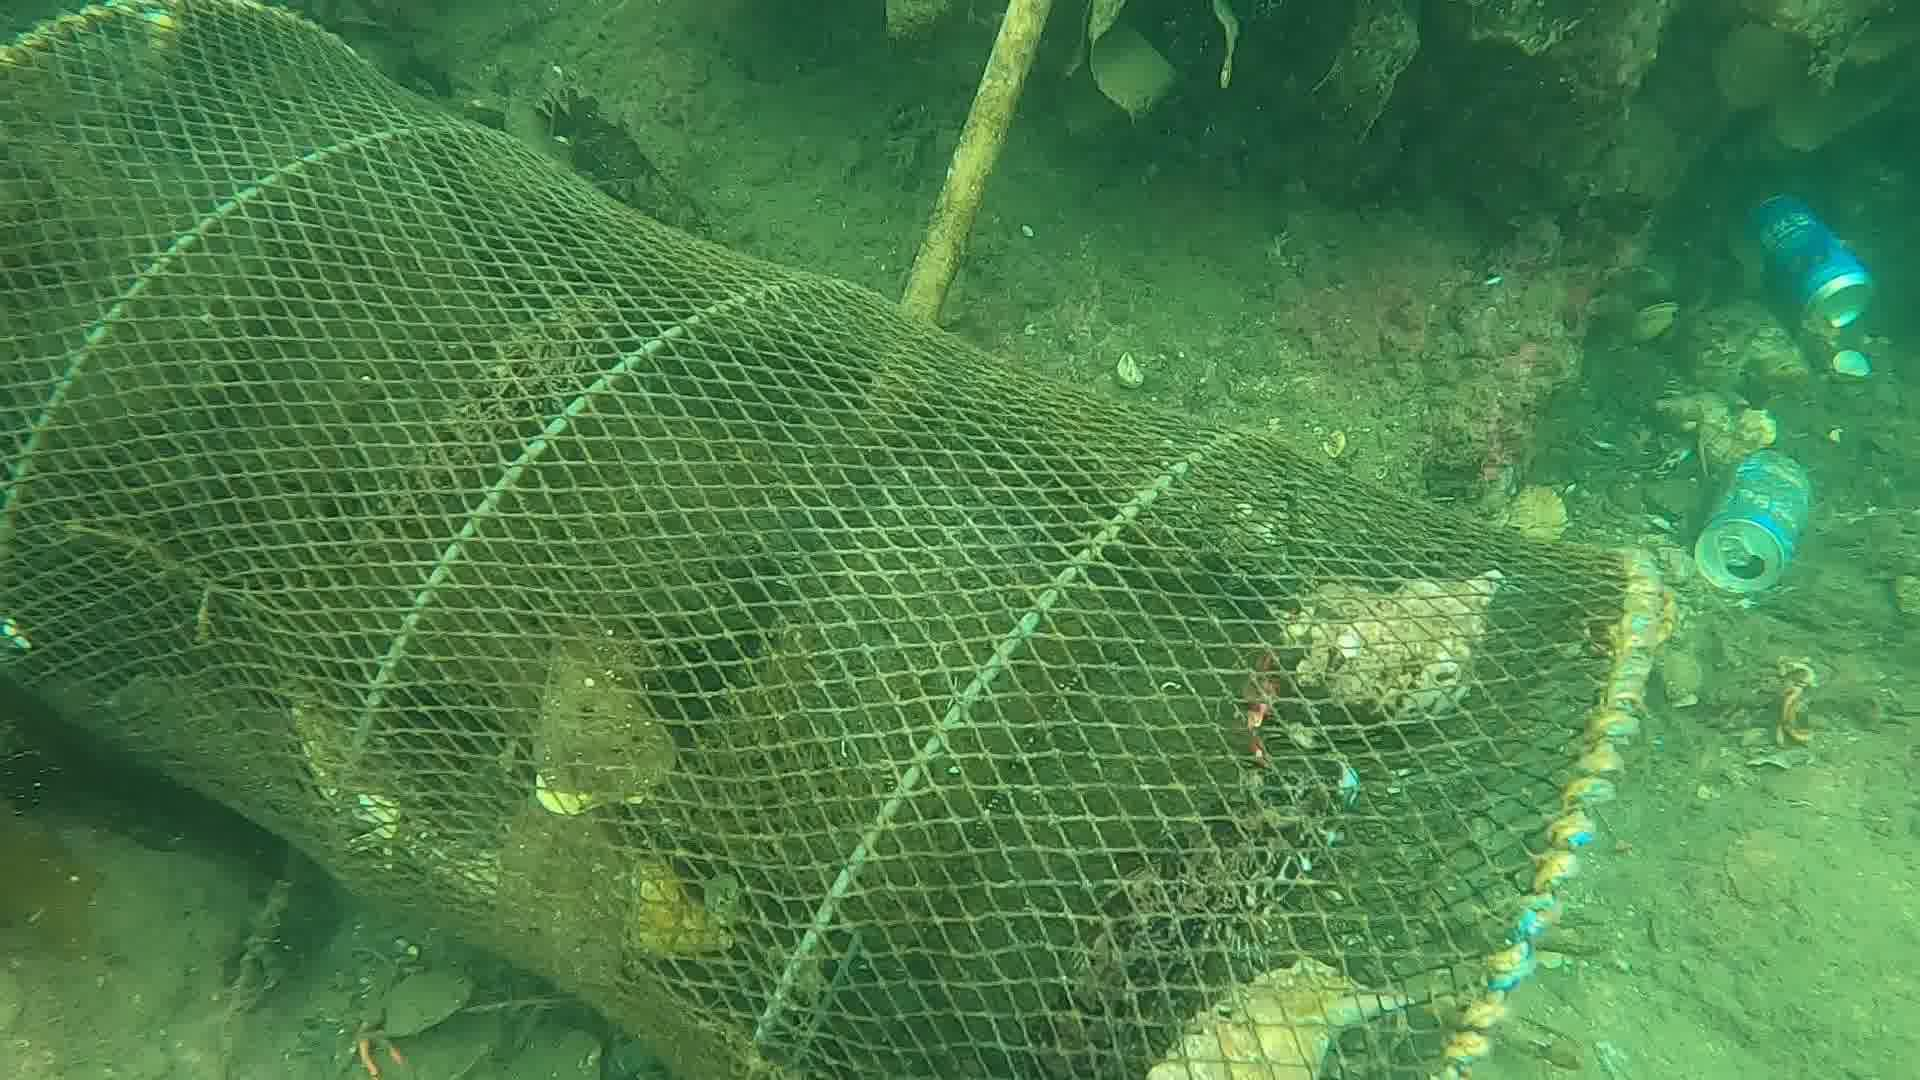spring fish trap: (0, 0, 1665, 1080)
